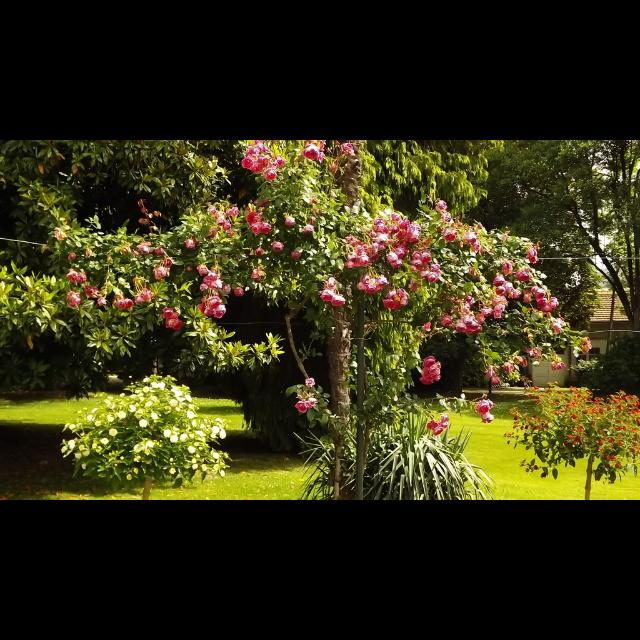Flower: (53, 140, 595, 438), (59, 372, 229, 482), (502, 376, 640, 480), (422, 356, 440, 384)
